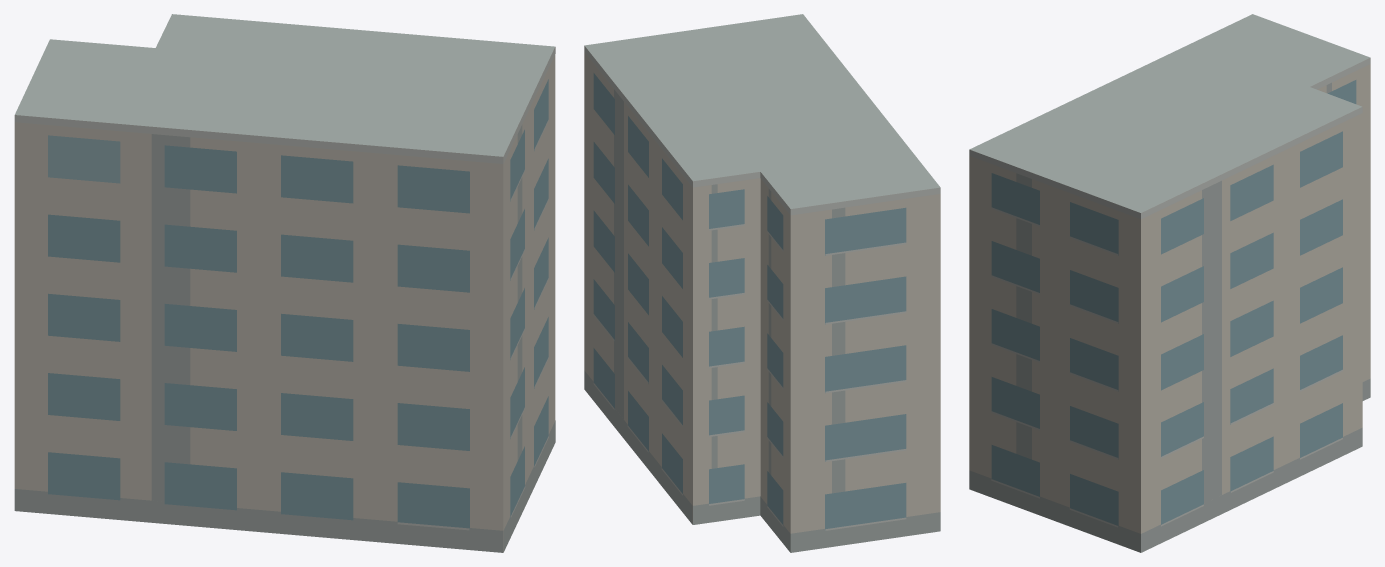
Rendered from survey-upis-32883976.glb.
3 renders of one model, left to right at view 1: azimuth 30°, elevation 25°; view 2: azimuth 150°, elevation 25°; view 3: azimuth 270°, elevation 25°, orthographic. The views are drawn at different scales.
Parts seen in each view (by area): view 1: survey-upis-32883976.tmp; view 2: survey-upis-32883976.tmp; view 3: survey-upis-32883976.tmp.
Part boxes in pixels (x1=…): survey-upis-32883976.tmp: x1=14, y1=14, x2=555, y2=552; survey-upis-32883976.tmp: x1=584, y1=14, x2=940, y2=552; survey-upis-32883976.tmp: x1=969, y1=14, x2=1370, y2=552.
Size of the model in its own units: 16.6 by 13.2 by 14.14.
